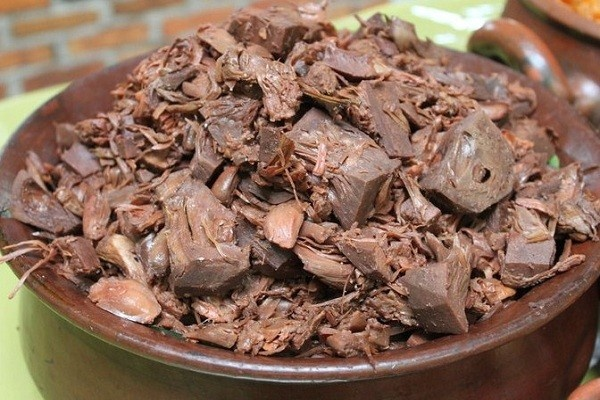gudeg: (31, 4, 592, 332)
